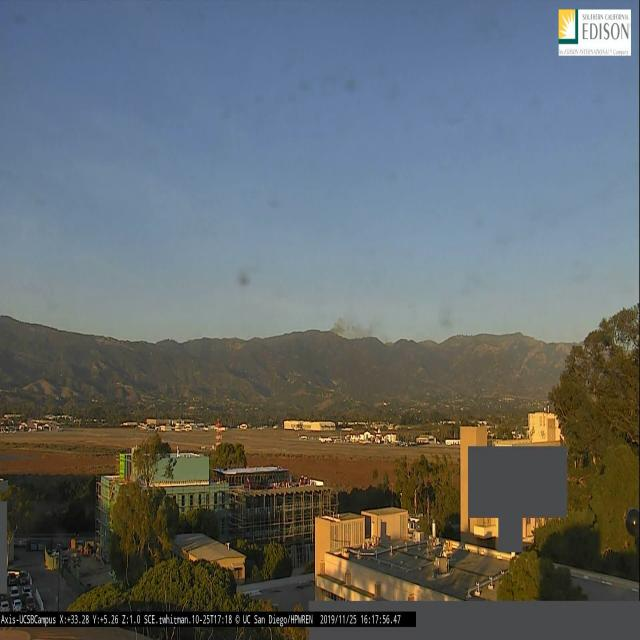smoke: (329, 318, 376, 342)
